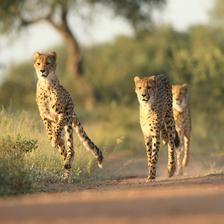Cheetah: (32, 48, 108, 181), (135, 72, 171, 182), (168, 80, 193, 178)
